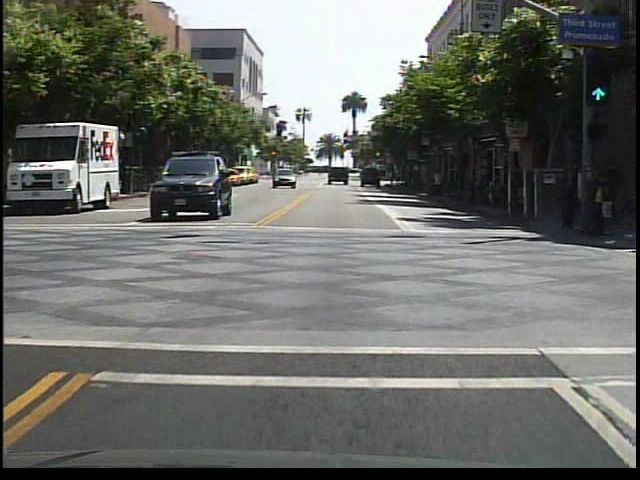person: (553, 159, 579, 237)
